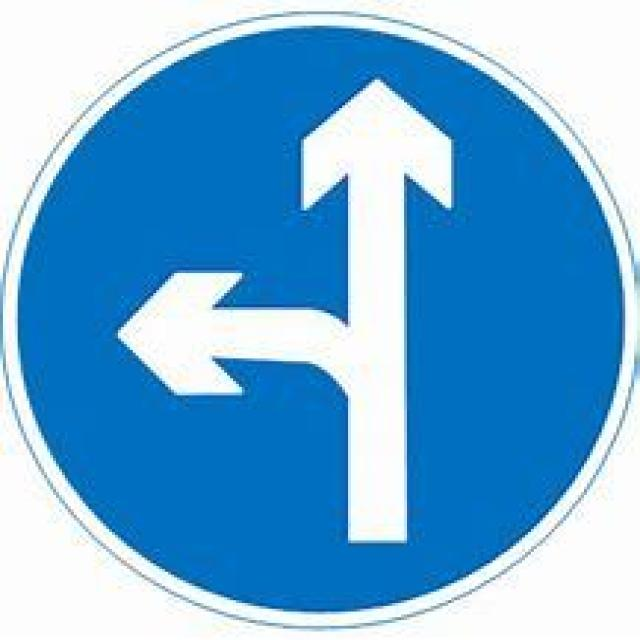compulsory_ahead: (0, 11, 637, 626)
